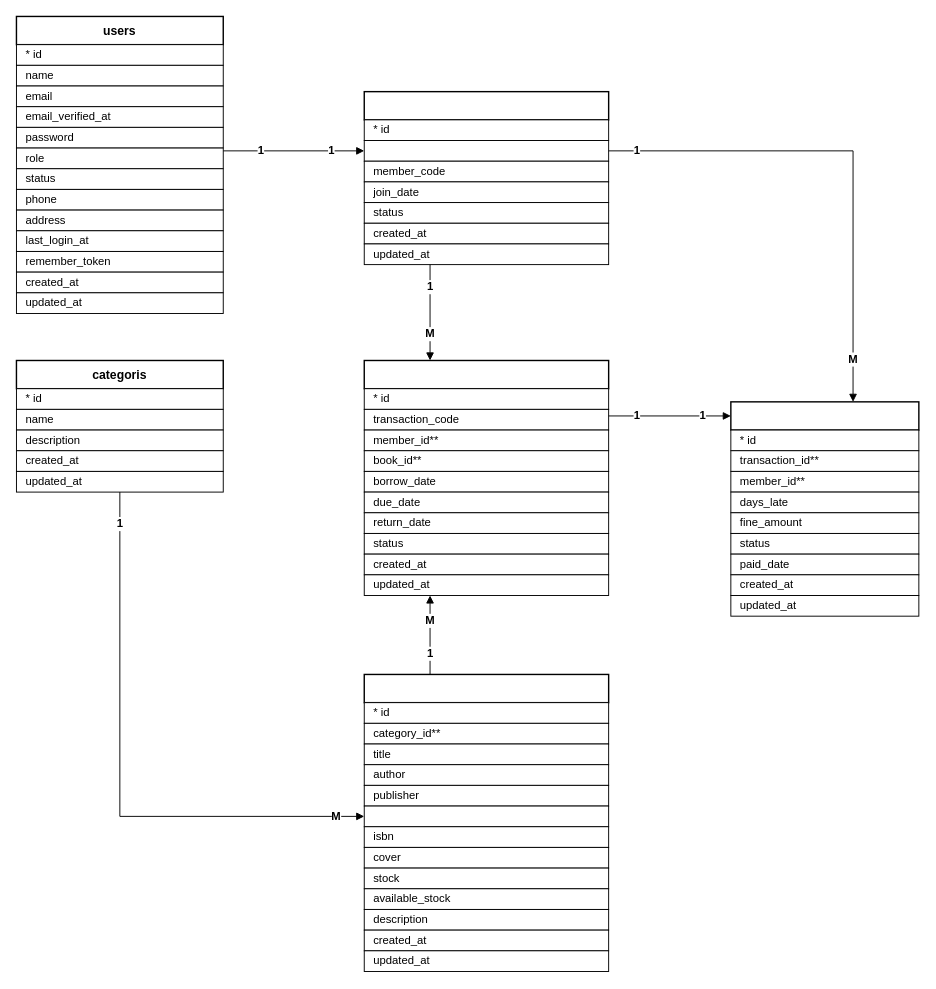
This 936x989 diagram has some shape labels left out. The centre of each missing label's shape, as x and y in pixels:
books: the point at 486,688
members: the point at 486,105
penalties: the point at 824,415
transactions: the point at 486,374
user_id**: the point at 486,150
year: the point at 486,816
